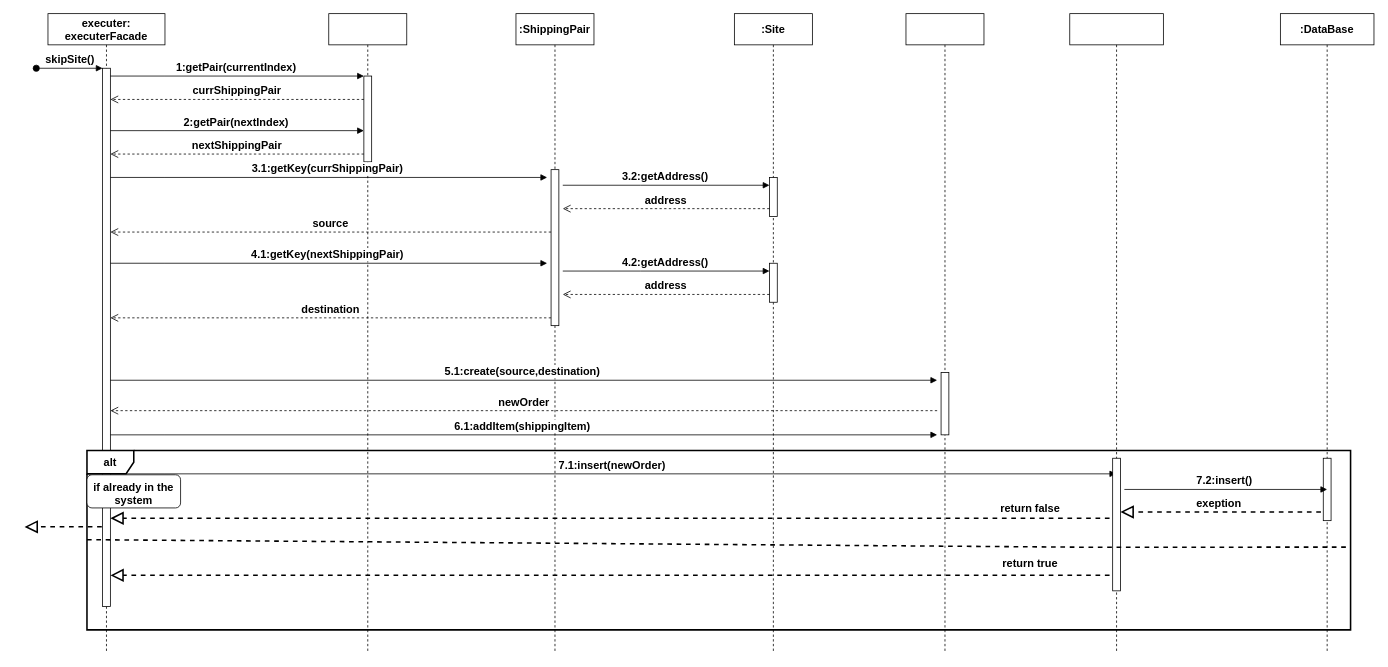
Some shapes in this 1388 by 667 pixel diagram are drawn without their labels. The shapes that lost their labels are listed below. From the top down, each one's box as (x1, y1, x2, y2) in pixels, then its label:
(328, 13, 407, 653): 1:Shipment
(905, 13, 984, 653): :ShippingOrder
(1069, 13, 1163, 653): :ShippingOrderDAO
